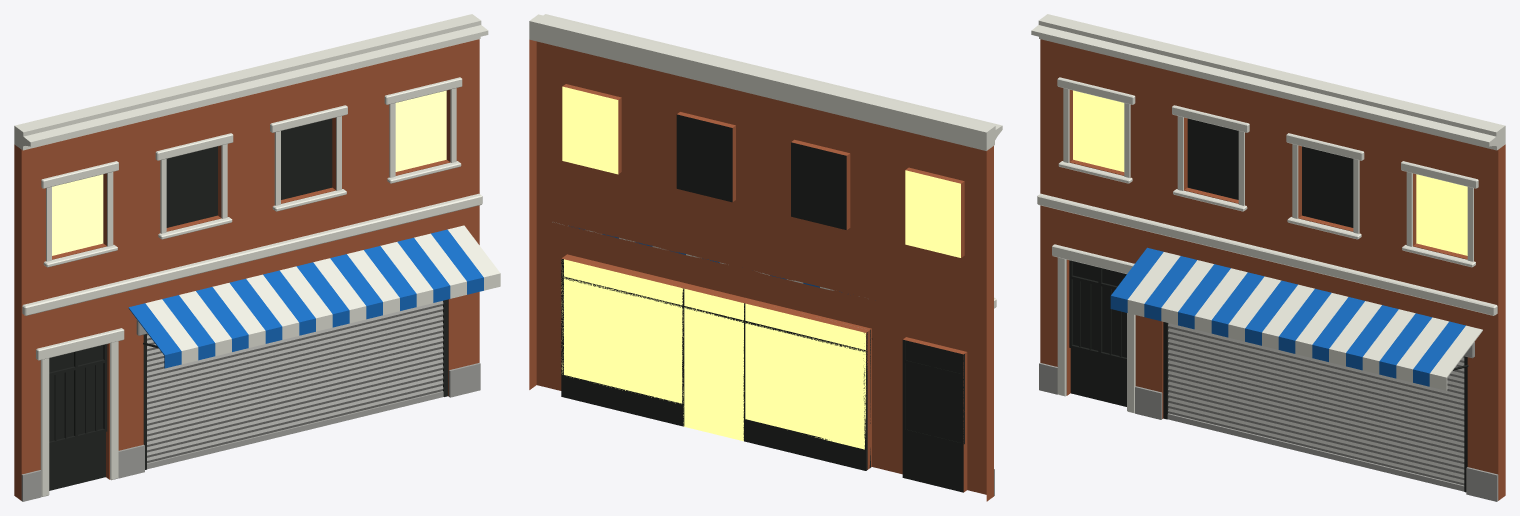
Rendered from fachada_casa_b.glb.
3 renders of one model, left to right at view 1: azimuth 30°, elevation 25°; view 2: azimuth 150°, elevation 25°; view 3: azimuth 330°, elevation 25°, orthographic.
Parts seen in each view (by area): view 1: pieza_piso_1, pieza_planta_baja, pieza_cortina, pieza_toldo, pieza_cornisa, pieza_ventanas_oscuras, pieza_ventanas_luz; view 2: pieza_piso_1, pieza_planta_baja, pieza_vidriera, pieza_cornisa, pieza_ventanas_oscuras, pieza_ventanas_luz; view 3: pieza_piso_1, pieza_planta_baja, pieza_cortina, pieza_toldo, pieza_cornisa, pieza_ventanas_oscuras, pieza_ventanas_luz.
Boxes of the visible parts, x1,y1,x2,y2 form: pieza_piso_1: [14, 39, 479, 309]; pieza_planta_baja: [14, 193, 482, 501]; pieza_cortina: [147, 301, 443, 469]; pieza_toldo: [128, 225, 500, 368]; pieza_cornisa: [14, 14, 488, 150]; pieza_ventanas_oscuras: [49, 118, 332, 441]; pieza_ventanas_luz: [52, 90, 446, 255]; pieza_piso_1: [529, 39, 993, 309]; pieza_planta_baja: [529, 194, 996, 501]; pieza_vidriera: [561, 259, 865, 449]; pieza_cornisa: [529, 14, 1002, 150]; pieza_ventanas_oscuras: [676, 114, 963, 442]; pieza_ventanas_luz: [562, 86, 960, 257]; pieza_piso_1: [1040, 39, 1505, 309]; pieza_planta_baja: [1037, 193, 1505, 501]; pieza_cortina: [1167, 323, 1464, 491]; pieza_toldo: [1110, 247, 1482, 390]; pieza_cornisa: [1031, 14, 1505, 150]; pieza_ventanas_oscuras: [1073, 118, 1353, 357]; pieza_ventanas_luz: [1073, 90, 1467, 255].
Size of what is drawn, in the model's own units: 9 by 6.95 by 1.49.
